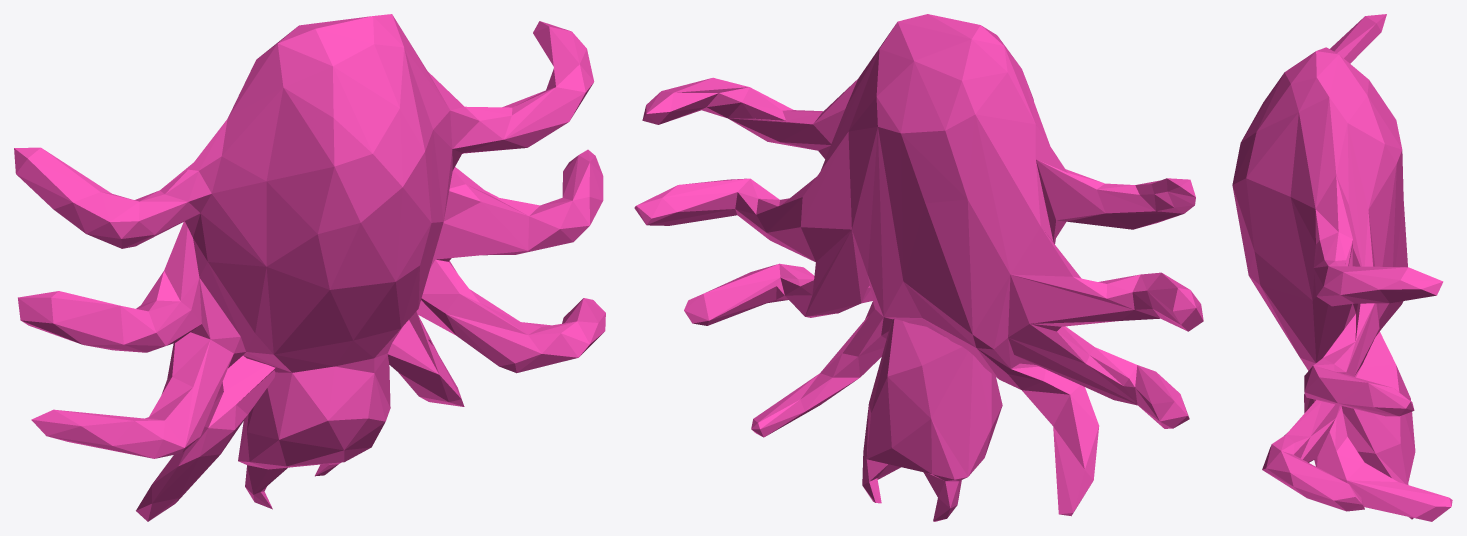
Rendered from aranya2_000007.obj.
3 renders of one model, left to right at view 1: azimuth 30°, elevation 25°; view 2: azimuth 150°, elevation 25°; view 3: azimuth 270°, elevation 25°, orthographic. The views are drawn at different scales.
Visible parts, largest first — view 1: Cube; view 2: Cube; view 3: Cube.
Part boxes in pixels (bbox=[...]): Cube: bbox=[14, 14, 605, 521]; Cube: bbox=[634, 14, 1203, 521]; Cube: bbox=[1232, 14, 1452, 521].
Size of the model in its own units: 20.85 by 17.07 by 7.52.
Materials: 1 (1 with a texture image).
